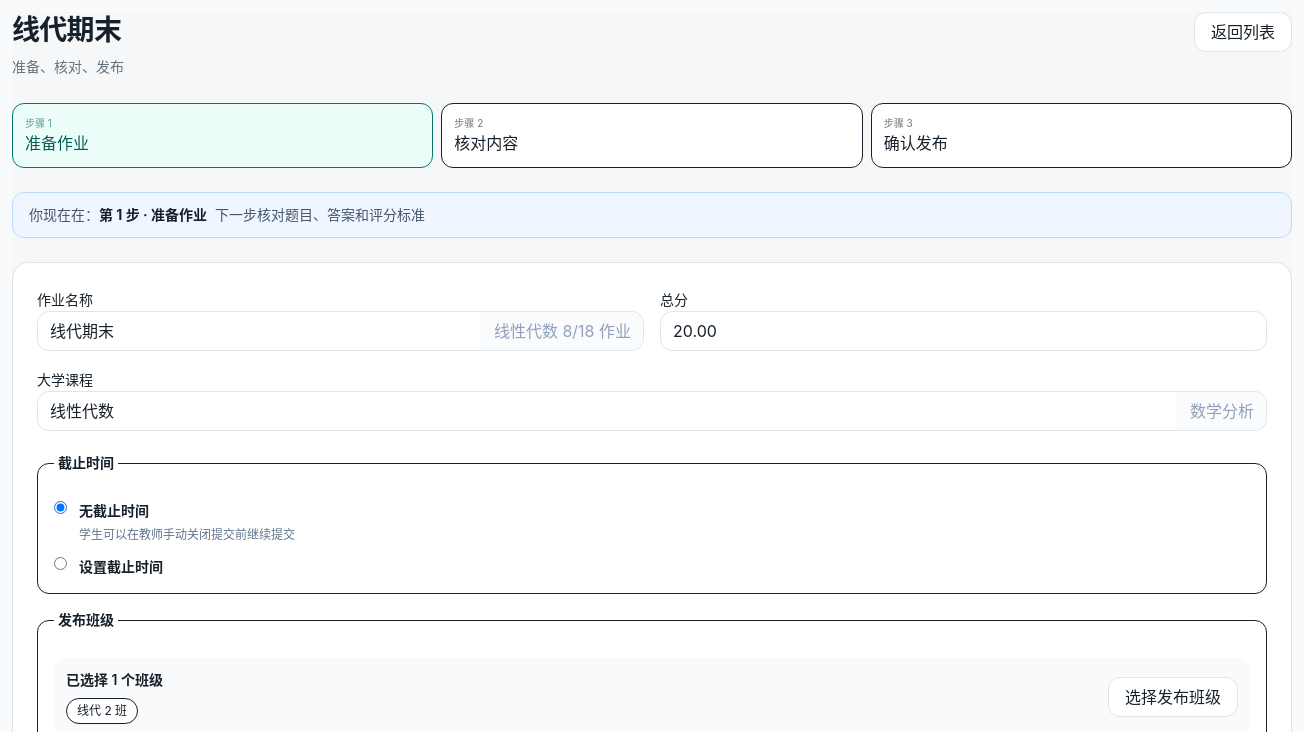
Test case: 面向大学课程显示可采用的名称建议且不覆盖已确认总分
Expected: the text "大学课程" is shown, [37,371,93,388]
Expected: the field named "subject" holds "线性代数", [38,392,1177,430]
Step 1. Click the button "线性代数 8/18 作业" → (562, 331), box [481,312,643,350]
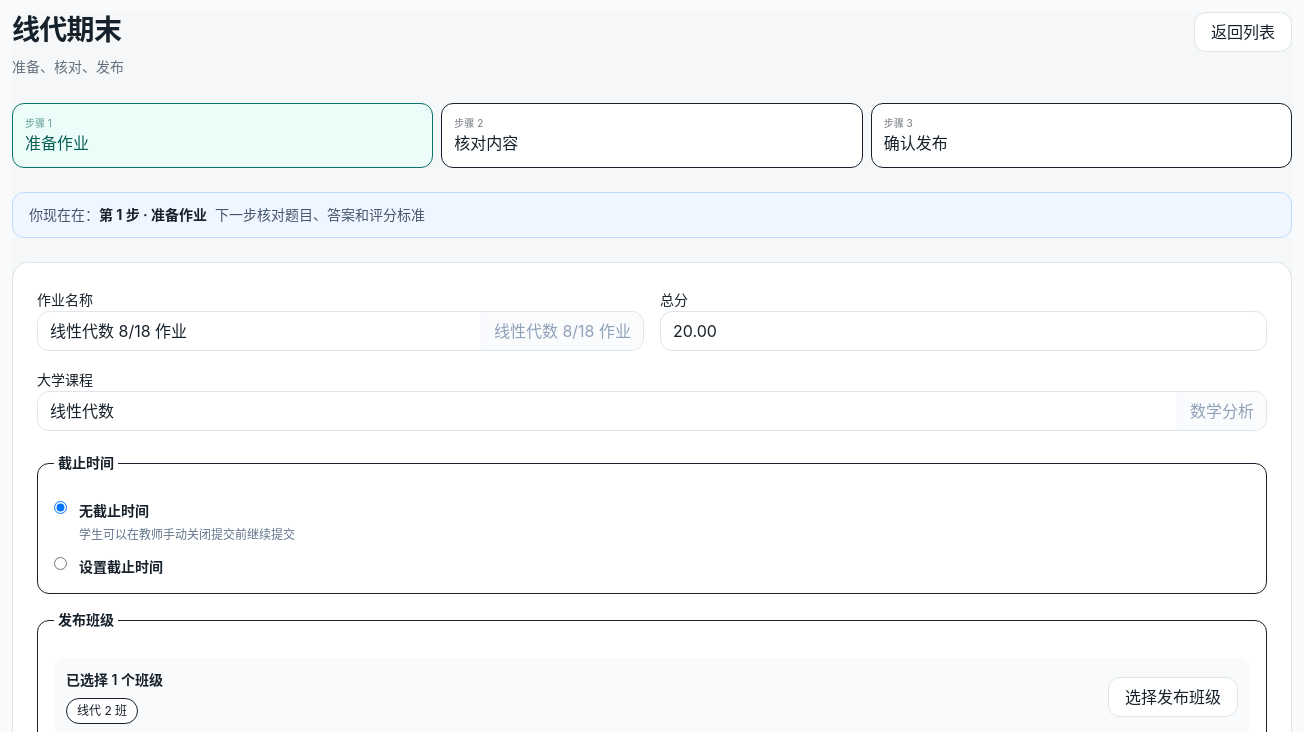
Step 2. Click the button "数学分析" → (1222, 411), box [1177,392,1266,430]
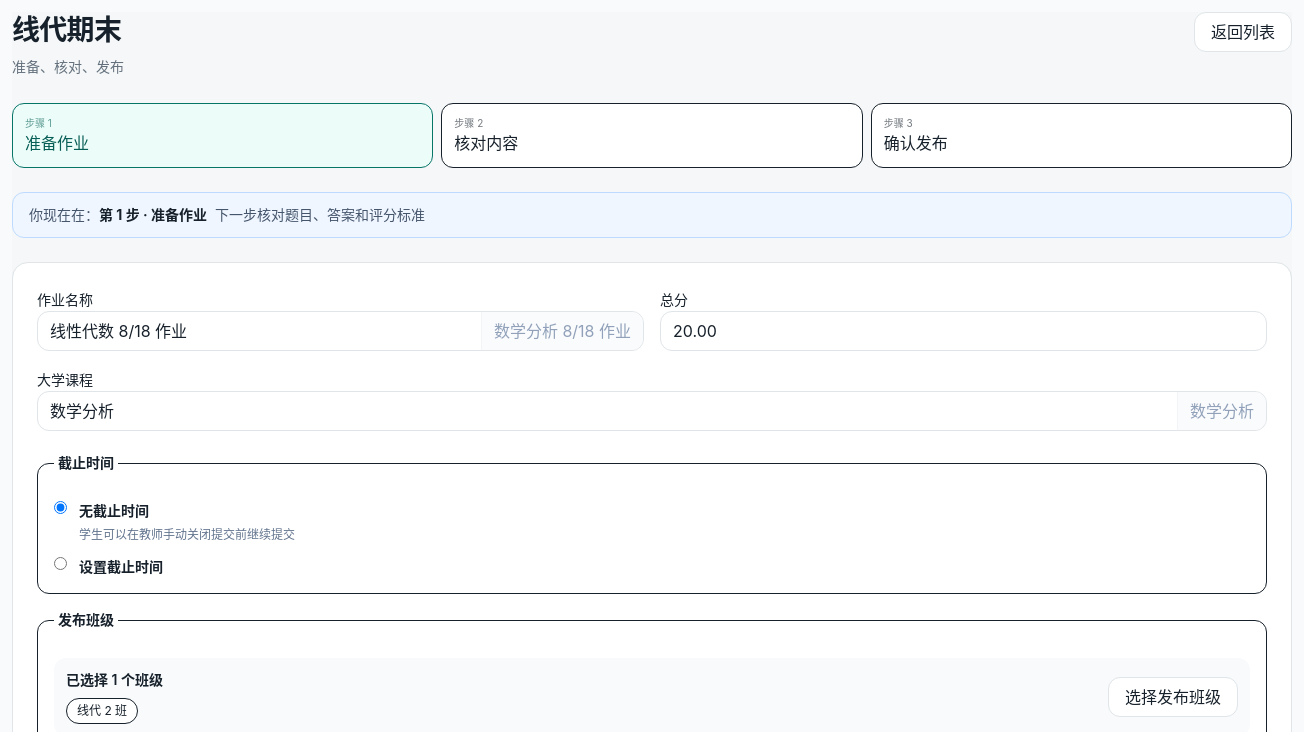
Expected: the number field labelled "总分" holds "20", [661,312,1266,350]
Now the field labelled "大学课程" holds "数学分析", box [38,392,1177,430]
